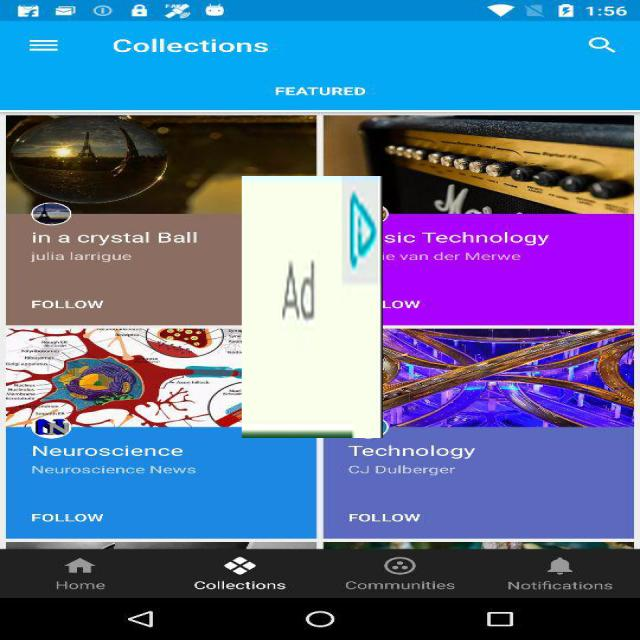sneaking: (242, 176, 383, 438)
